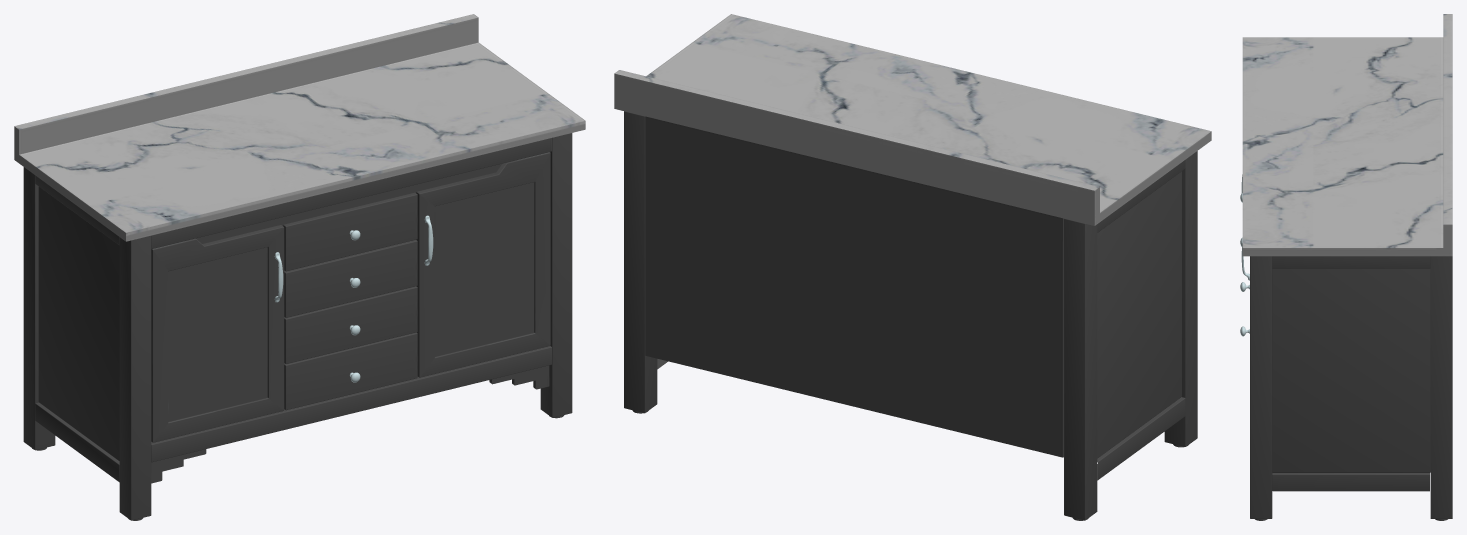
File: visual_LowPoly_06_VanityCounterWithoutSink.dae
3 renders of one model, left to right at view 1: azimuth 30°, elevation 25°; view 2: azimuth 150°, elevation 25°; view 3: azimuth 270°, elevation 25°, orthographic. The views are drawn at different scales.
Parts seen in each view (by area): view 1: SM_vanity_counter; view 2: SM_vanity_counter; view 3: SM_vanity_counter.
Part boxes in pixels (x1=…): SM_vanity_counter: x1=14, y1=14, x2=585, y2=520; SM_vanity_counter: x1=614, y1=14, x2=1211, y2=520; SM_vanity_counter: x1=1240, y1=14, x2=1452, y2=520.
Size of the model in its own units: 135 by 57.66 by 90.49.
1 material, 1 textured.
